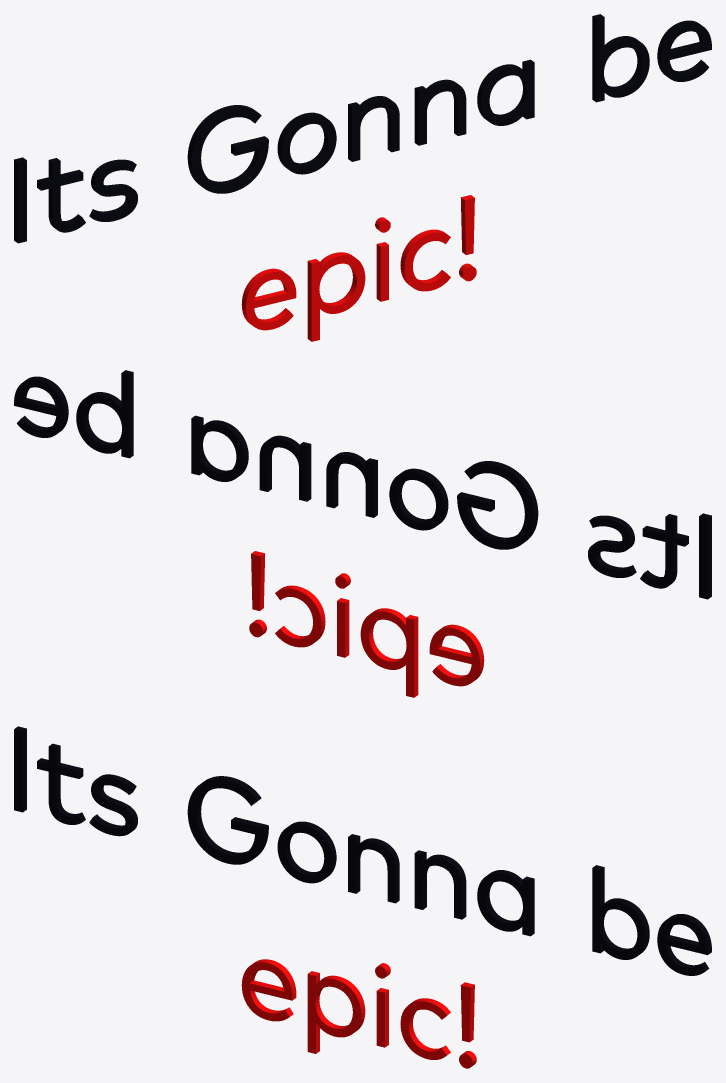
The model's file is Its gonna be epic!.fbx.
3 views of the same model, one above another, from view 1: azimuth 30°, elevation 25°; view 2: azimuth 150°, elevation 25°; view 3: azimuth 330°, elevation 25° (orthographic).
Parts seen in each view (by area): view 1: Text001; view 2: Text001; view 3: Text001.
Boxes of the visible parts, <box> form: Text001: <box>14,14,711,341</box>; Text001: <box>14,370,711,697</box>; Text001: <box>14,726,711,1068</box>.
Bounding box in the file's own units: 297 × 104 × 3.
